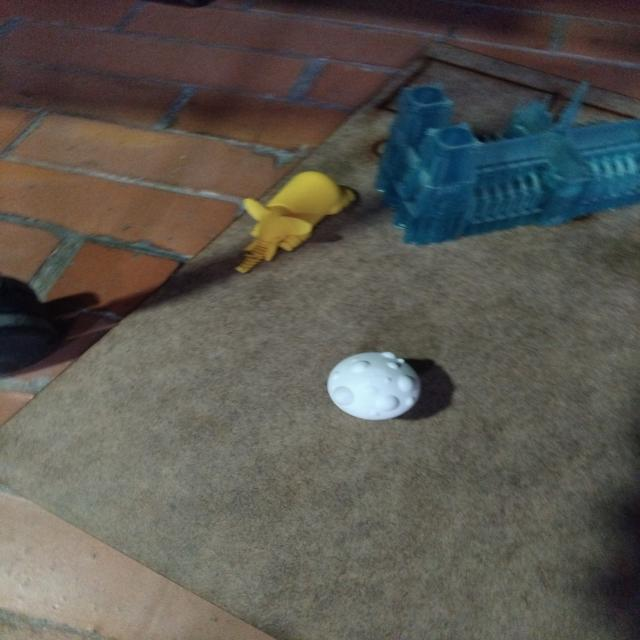Hongo: (318, 339, 438, 428)
